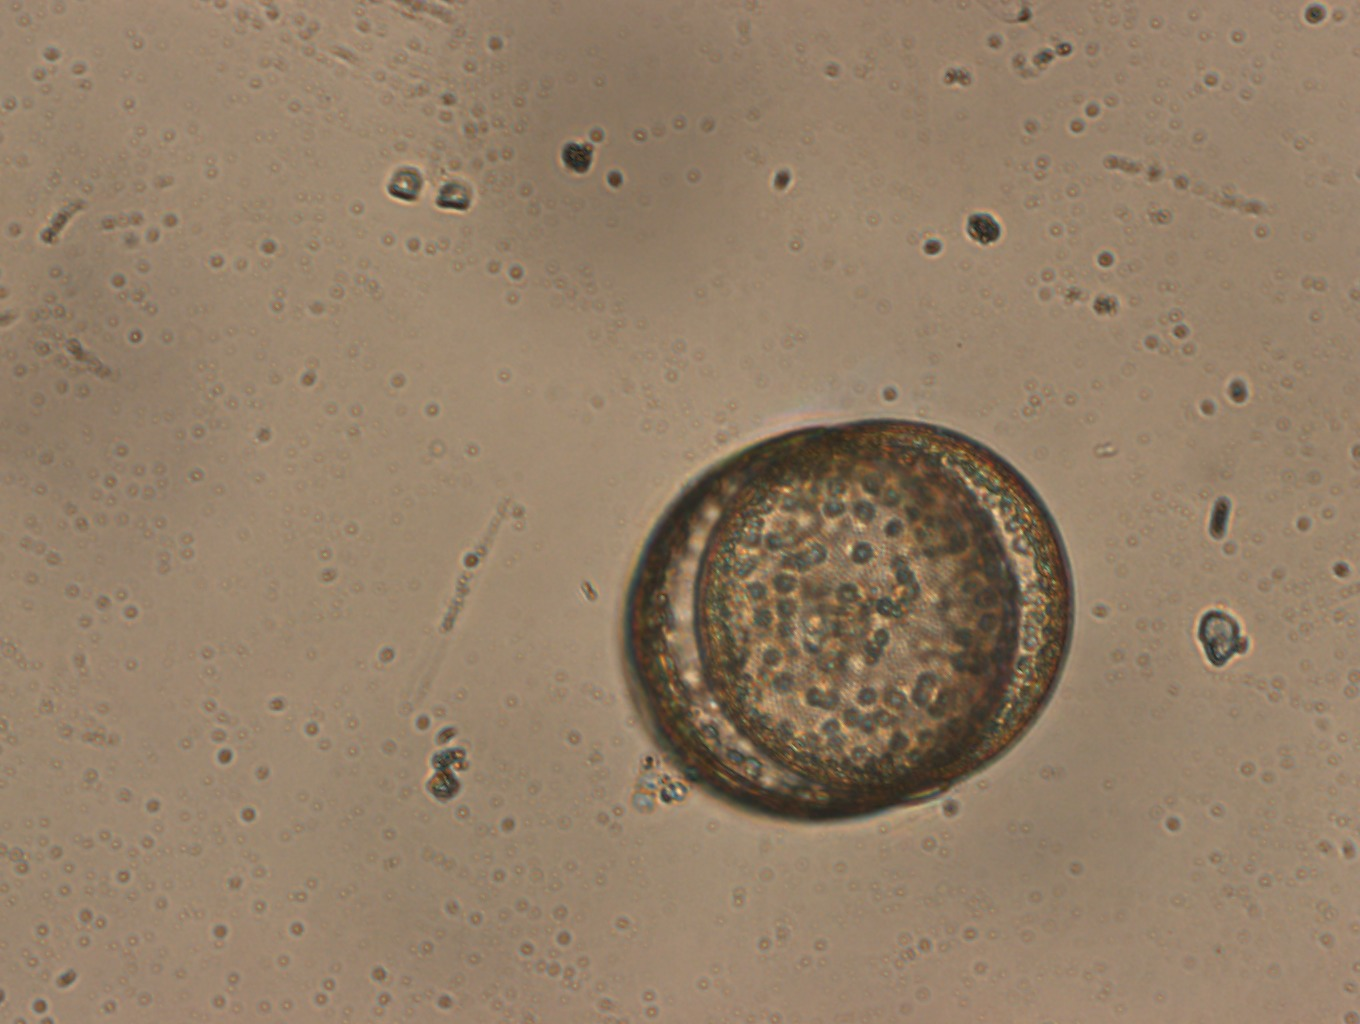coscinodiscus: (624, 416, 1074, 827)
